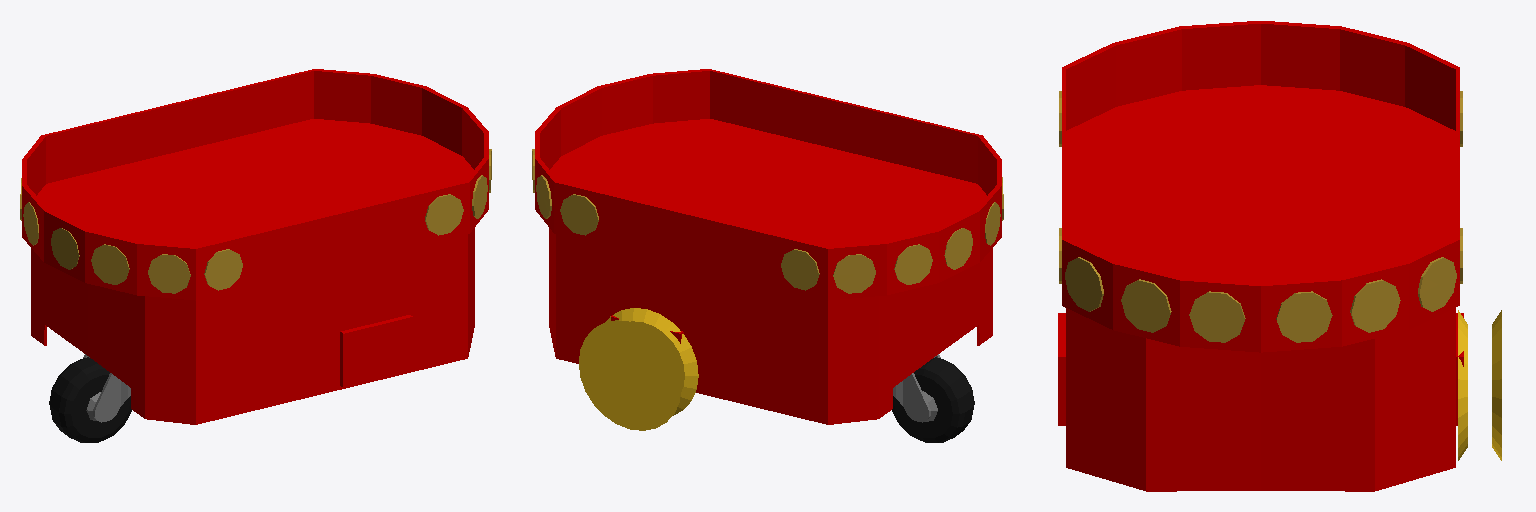
URDF robot description (pioneer3dx):
<?xml version="1.0" ?>

<!-- ================================================================================================ -->
<!-- Note: This URDF file and associated content are based on files from the GitHub repository below. -->
<!--       Geometry files were converted as necessary to a format supported by Simscape Multibody.    -->
<!--       Adjustments were made to the URDF file for compatibility with Simscape Multibody.          -->
<!--                                                                                                  -->
<!-- GitHub source: https://github.com/MobileRobots/amr-ros-config/tree/43715c9a5880d0d2f6354ad7ea5d2f6ac65def40 -->
<!-- ================================================================================================ -->

<!-- =================================================================================== -->
<!-- |    This document was autogenerated by xacro from pioneer3dx.urdf.xacro          | -->
<!-- |    EDITING THIS FILE BY HAND IS NOT RECOMMENDED                                 | -->
<!-- =================================================================================== -->
<robot name="pioneer3dx" xmlns:controller="http://playerstage.sourceforge.net/gazebo/xmlschema/#controller" xmlns:interface="http://playerstage.sourceforge.net/gazebo/xmlschema/#interface" xmlns:sensor="http://playerstage.sourceforge.net/gazebo/xmlschema/#sensor" xmlns:xacro="http://ros.org/wiki/xacro">
  <!--<include filename="$(find amr_robots_description)/urdf/materials.xacro"/>-->
  <!-- Chassis -->
  <link name="base_link">
    <inertial>
      <mass value="3.5"/>
      <!--<origin xyz="-0.025 0 -0.223"/>-->
      <origin xyz="0 0 0"/>
      <inertia ixx="1" ixy="0" ixz="0" iyy="1" iyz="0" izz="1"/>
    </inertial>
    <visual>
      <origin rpy="0 0 0" xyz="-0.045 0 0.148"/>
      <geometry name="pioneer_geom">
        <mesh filename="amr3dx_chassis.stl"/>
      </geometry>
      <material name="ChassisRed">
        <color rgba="0.851 0.0 0.0 1.0"/>
      </material>
    </visual>
    <collision>
      <origin rpy="0 0 0" xyz="0 0 0"/>
      <geometry>
        <box size="0.01 0.01 0.01"/>
      </geometry>
    </collision>
  </link>
  <link name="top_plate">
    <inertial>
      <mass value="0.01"/>
      <origin xyz="0 0 0"/>
      <inertia ixx="1" ixy="0" ixz="0" iyy="1" iyz="0" izz="1"/>
    </inertial>
    <visual>
      <origin rpy="0 0 0" xyz="0 0 0"/>
      <geometry name="pioneer_geom">
        <mesh filename="amr3dx_top.stl"/>
      </geometry>
      <material name="TopBlack">
        <color rgba="0.038 0.038 0.038 1.0"/>
      </material>
    </visual>
  </link>
  <gazebo reference="top_plate">
    <!-- material value="Gazebo/Black"/ -->
    <material>Gazebo/Black</material>
  </gazebo>
  <joint name="base_top_joint" type="fixed">
    <origin rpy="0 0 0" xyz="-0.045 0 0.234"/>
    <axis xzy="0 0 1"/>
    <parent link="base_link"/>
    <child link="top_plate"/>
  </joint>
  <link name="sonar_back">
    <inertial>
      <mass value="0.0001"/>
      <origin xyz="0 0 0"/>
      <inertia ixx="1" ixy="0" ixz="0" iyy="1" iyz="0" izz="1"/>
    </inertial>
    <visual>
      <origin rpy="0 0 0" xyz="0 0 0"/>
      <geometry name="pioneer_geom">
        <mesh filename="amr3dx_sonar_back.stl"/>
      </geometry>
      <material name="SonarYellow">
        <color rgba="0.715 0.583 0.210 1.0"/>
      </material>
    </visual>
  </link>
  <gazebo reference="sonar_back">
    <material value="Gazebo/Yellow"/>
  </gazebo>
  <joint name="base_front_joint" type="fixed">
    <origin rpy="0 0 0" xyz="-0.198 0 0.208"/>
    <parent link="base_link"/>
    <child link="sonar_back"/>
  </joint>
  <joint name="base_back_joint" type="fixed">
    <origin rpy="0 0 0" xyz="0.109 0 0.209"/>
    <parent link="base_link"/>
    <child link="sonar_front"/>
  </joint>
  <link name="sonar_front">
    <inertial>
      <mass value="0"/>
      <origin xyz="0 0 0"/>
      <inertia ixx="1" ixy="0" ixz="0" iyy="1" iyz="0" izz="1"/>
    </inertial>
    <visual>
      <origin rpy="0 0 0" xyz="0 0 0"/>
      <geometry name="pioneer_geom">
        <mesh filename="amr3dx_sonar_front.stl"/>
      </geometry>
      <material name="SonarYellow">
        <color rgba="0.715 0.583 0.210 1.0"/>
      </material>
    </visual>
  </link>
  <!-- Caster -->
  <joint name="base_caster_swivel_joint" type="continuous">
    <origin rpy="0 0 0" xyz="-0.185 0 0.055"/>
    <axis xyz="0 0 1"/>
    <anchor xyz="0 0 0"/>
    <limit effort="100" k_velocity="0" velocity="100"/>
    <joint_properties damping="0.0" friction="0.0"/>
    <parent link="base_link"/>
    <child link="caster_swivel"/>
  </joint>
  <link name="caster_swivel">
    <inertial>
      <mass value="0.1"/>
      <origin xyz="0 0 0"/>
      <inertia ixx="0.01" ixy="0" ixz="0" iyy="0.01" iyz="0" izz="0.01"/>
    </inertial>
    <visual>
      <origin rpy="0 0 0" xyz="0 0 0"/>
      <geometry name="pioneer_geom">
        <mesh filename="amr3dx_caster_swivel.stl"/>
      </geometry>
      <material name="caster_swivel">
        <color rgba="0.5 0.5 0.5 1"/>
      </material>
    </visual>
  </link>
  <gazebo reference="caster_swivel">
    <material value="Gazebo/Grey"/>
  </gazebo>
  <!-- Center  + Hubcap -->
  <link name="caster_hubcap">
    <inertial>
      <mass value="0.01"/>
      <origin xyz="0 0 0"/>
      <inertia ixx="0.012411765597" ixy="-0.000711733678" ixz="0.00050272983" iyy="0.015218160428" iyz="-0.000004273467" izz="0.011763977943"/>
    </inertial>
    <visual>
      <origin rpy="0 0 0" xyz="0 0 0"/>
      <geometry name="pioneer_geom">
        <mesh filename="amr3dx_caster_hubcap.stl"/>
      </geometry>
      <material name="caster_swivel">
        <color rgba="0.5 0.5 0.5 1"/>
      </material>
    </visual>
    <collision>
      <origin rpy="0 0 0" xyz="0 0 0"/>
      <geometry>
        <box size="0.05 0.05 0.05"/>
      </geometry>
    </collision>
  </link>
  <gazebo reference="caster_hubcap">
    <material value="Gazebo/Grey"/>
  </gazebo>
  <joint name="caster_swivel_hubcap_joint" type="continuous">
    <origin rpy="0 0 0" xyz="-0.026 0 -0.016"/>
    <axis xyz="0 -1 0"/>
    <anchor xyz="0 0 0"/>
    <limit effort="100" k_velocity="0" velocity="100"/>
    <joint_properties damping="0.0" friction="0.0"/>
    <parent link="caster_swivel"/>
    <child link="caster_wheel"/>
  </joint>
  <link name="caster_wheel">
    <inertial>
      <mass value="0.1"/>
      <origin xyz="0 0 0"/>
      <inertia ixx="0.012411765597" ixy="-0.000711733678" ixz="0.00050272983" iyy="0.015218160428" iyz="-0.000004273467" izz="0.011763977943"/>
    </inertial>
    <visual>
      <origin rpy="0 0 0" xyz="0 0 0"/>
      <geometry name="pioneer_geom">
        <mesh filename="amr3dx_caster_wheel.stl"/>
      </geometry>
      <material name="WheelBlack">
        <color rgba="0.117 0.117 0.117 1"/>
      </material>
    </visual>
    <collision>
      <origin rpy="-9635 0 0" xyz="0 0 0"/>
      <geometry>
        <!--<mesh filename="package://amr_robots_description/meshes/p3dx_meshes/caster_wheel.stl"/>-->
        <cylinder length="0.01" radius="0.0375"/>
      </geometry>
    </collision>
  </link>
  <gazebo reference="left_hub">
    <material value="Gazebo/Yellow"/>
  </gazebo>
  <joint name="caster_wheel_joint" type="fixed">
    <origin rpy="0 0 0" xyz="0 0 0"/>
    <parent link="caster_wheel"/>
    <child link="caster_hubcap"/>
  </joint>
  <link name="left_hub">
    <visual>
      <origin rpy="0 0 0" xyz="0 0 0"/>
      <geometry>
        <mesh filename="amr3dx_left_hubcap.stl"/>
      </geometry>
      <material name="HubcapYellow">
        <color rgba="1.0 0.811 0.151 1.0"/>
      </material>
    </visual>
    <collision>
      <origin rpy="-1.57079635 0 0" xyz="0 0 0"/>
      <geometry>
        <!--<mesh filename="amr3dx_caster_wheel.stl"/>-->
        <cylinder length="0.01" radius="0.09"/>
      </geometry>
    </collision>
  </link>
  <joint name="left_hub_joint" type="continuous">
    <origin rpy="0 0 0" xyz="0 0.15 0.08"/>
    <parent link="base_link"/>
    <child link="left_hub"/>
    <axis xyz="0 1 0"/>
  </joint>
  <link name="left_wheel">
    <inertial>
      <mass value="0.1"/>
      <origin xyz="0 0 0"/>
      <inertia ixx="0.01" ixy="0.0" ixz="0.0" iyy="0.01" iyz="0.0" izz="0.01"/>
    </inertial>
    <visual>
      <origin rpy="0 0 0" xyz="0 0 0"/>
      <geometry>
        <mesh filename="amr3dx_left_wheel.stl"/>
      </geometry>
      <material name="WheelBlack">
        <color rgba="0.117 0.117 0.117 1"/>
      </material>
    </visual>
  </link>
  <joint name="left_wheel_joint" type="fixed">
    <!-- type="continuous" -->
    <origin rpy="0 0 0" xyz="0 0 0"/>
    <parent link="left_hub"/>
    <child link="left_wheel"/>
  </joint>
  <gazebo reference="left_wheel_joint">
    <material value="Gazebo/Black"/>
  </gazebo>
  <link name="right_hub">
    <visual>
      <origin rpy="0 0 0" xyz="0 0 0"/>
      <geometry>
        <mesh filename="amr3dx_right_hubcap.stl"/>
      </geometry>
      <material name="HubcapYellow">
        <color rgba="1.0 0.811 0.151 1.0"/>
      </material>
    </visual>
    <collision>
      <origin rpy="-1.57079635 0 0" xyz="0 0 0"/>
      <geometry>
        <!--<mesh filename="package://amr_robots_description/meshes/p3dx_meshes/caster_wheel.stl"/>-->
        <cylinder length="0.01" radius="0.09"/>
      </geometry>
    </collision>
  </link>
  <gazebo reference="right_hub">
    <material value="Gazebo/Yellow"/>
  </gazebo>
  <joint name="right_hub_joint" type="continuous">
    <origin rpy="0 0 0" xyz="0 -0.15 0.08"/>
    <parent link="base_link"/>
    <child link="right_hub"/>
    <axis xyz="0 1 0"/>
  </joint>
  <link name="right_wheel">
    <inertial>
      <mass value="0.1"/>
      <origin xyz="0 0 0"/>
      <inertia ixx="0.01" ixy="0.0" ixz="0.0" iyy="0.01" iyz="0.0" izz="0.01"/>
    </inertial>
    <visual>
      <origin rpy="0 0 0" xyz="0 0 0"/>
      <geometry>
        <mesh filename="amr3dx_right_wheel.stl"/>
      </geometry>
      <material name="WheelBlack">
        <color rgba="0.117 0.117 0.117 1"/>
      </material>
    </visual>
  </link>
  <joint name="right_wheel_joint" type="fixed">
    <!-- type="continuous" -->
    <origin rpy="0 0 0" xyz="0 0 0"/>
    <parent link="right_hub"/>
    <child link="right_wheel"/>
  </joint>
  <gazebo reference="right_wheel_joint">
    <material value="Gazebo/Black"/>
  </gazebo>
  <create>
    <sonar_front parent="base_link"/>
    <top_plate parent="base_link"/>
  </create>
  <gazebo>
    <plugin filename="libgazebo_ros_diff_drive.so" name="differential_drive_controller">
      <alwaysOn>true</alwaysOn>
      <updateRate>100</updateRate>
      <leftJoint>left_wheel_joint</leftJoint>
      <rightJoint>right_wheel_joint</rightJoint>
      <wheelSeparation>0.158</wheelSeparation>
      <wheelDiameter>0.12</wheelDiameter>
      <torque>5</torque>
      <!-- interface:position name="position_iface_0"/ -->
      <commandTopic>cmd_vel</commandTopic>
      <robotBaseFrame>base_link</robotBaseFrame>
      <odometryTopic>odom</odometryTopic>
      <odometryFrame>odom</odometryFrame>
    </plugin>
    <!-- TODO include P3D (ground truth) plugin -->
    <!-- XXX old urdf included a gazebo_ros_controller_manager plugin with a 1 second update rate -->
  </gazebo>
</robot>


--- Facts derived from the render (not from the file) ---
3 views of the same robot in one strip: view 1: azimuth 30°, elevation 25°; view 2: azimuth 150°, elevation 25°; view 3: azimuth 270°, elevation 25° (orthographic).
Model pioneer3dx with 11 links and 10 joints (4 continuous, 6 fixed), rooted at base_link, posed all joints at 0.
Links seen in each view (by area): view 1: base_link, sonar_back, caster_wheel, sonar_front, caster_swivel; view 2: base_link, left_hub, sonar_back, caster_wheel, sonar_front, caster_swivel; view 3: base_link, sonar_front, left_hub.
Link boxes in pixels (<box>): base_link: <box>22,69,488,424</box>; sonar_back: <box>20,178,242,293</box>; caster_wheel: <box>49,357,131,442</box>; sonar_front: <box>425,149,491,235</box>; caster_swivel: <box>83,354,130,422</box>; base_link: <box>535,69,1001,424</box>; left_hub: <box>579,308,698,430</box>; sonar_back: <box>781,177,1003,293</box>; caster_wheel: <box>892,357,974,442</box>; sonar_front: <box>532,149,598,235</box>; caster_swivel: <box>893,354,940,422</box>; base_link: <box>1058,21,1463,491</box>; sonar_front: <box>1059,228,1462,342</box>; left_hub: <box>1458,310,1501,460</box>.
Bounding box of the posed robot: 0.43 × 0.3032 × 0.2333 m (x, y, z).
Meshes: 11 distinct files referenced, 7 mesh visuals loaded (7 binary STL); not drawn: 4 (reference not matched to a file when rendering).